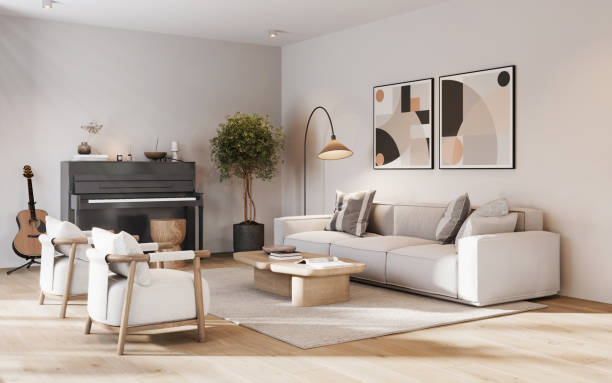chair: (85, 224, 212, 359), (37, 214, 90, 317)
floor lamp: (297, 102, 354, 217)
large plant: (210, 109, 285, 250)
sofa: (270, 189, 566, 311)
table: (232, 245, 367, 309)
wall art: (437, 63, 518, 171), (369, 75, 435, 170)
